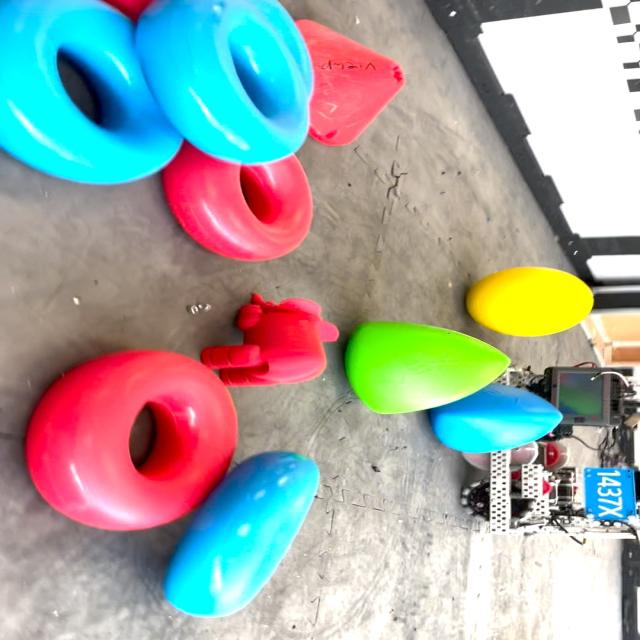Blue-Ring: (0, 0, 182, 184), (136, 0, 309, 164), (164, 451, 320, 618)
Red-Ring: (27, 350, 238, 530), (162, 142, 313, 261)
